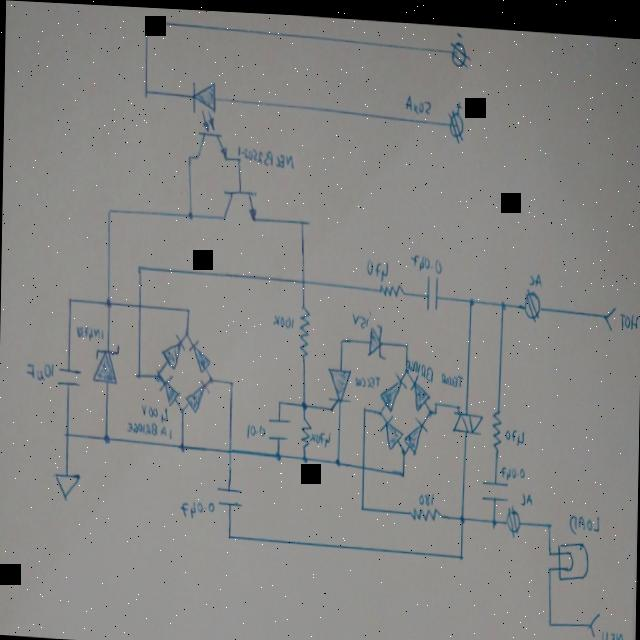capacitor: (58, 362, 82, 391), (268, 411, 292, 440), (216, 480, 242, 506), (424, 270, 442, 306), (482, 473, 508, 497)
crossover: (137, 298, 143, 308), (227, 443, 233, 453), (300, 274, 306, 282), (360, 459, 366, 466)
diode: (92, 341, 120, 383), (380, 367, 407, 406), (404, 411, 428, 448), (379, 410, 404, 445), (161, 331, 185, 366), (185, 377, 210, 410), (188, 337, 212, 370), (367, 318, 388, 355), (410, 371, 430, 406), (160, 372, 182, 403)
ground: (54, 469, 80, 498)
junction: (105, 202, 114, 215), (499, 292, 508, 304), (154, 366, 162, 379), (104, 296, 112, 307), (187, 207, 195, 218), (468, 290, 476, 301), (143, 13, 151, 24), (235, 152, 243, 163), (300, 397, 308, 407), (458, 508, 466, 518), (186, 149, 194, 159), (178, 403, 185, 413), (180, 439, 186, 450), (142, 84, 148, 95), (276, 447, 282, 457), (547, 612, 553, 622), (491, 511, 497, 521), (104, 432, 110, 442), (400, 465, 406, 475), (401, 442, 407, 452), (335, 454, 341, 463), (208, 372, 214, 381), (137, 261, 143, 270), (68, 294, 74, 303), (186, 302, 192, 311), (458, 546, 464, 555), (226, 528, 232, 537), (427, 402, 433, 411), (302, 451, 308, 459), (228, 376, 234, 384), (184, 327, 190, 335), (136, 369, 142, 377), (300, 215, 306, 223), (548, 514, 554, 522), (548, 542, 554, 550), (360, 500, 366, 508), (64, 429, 70, 437), (378, 403, 384, 411), (338, 333, 344, 341), (547, 558, 552, 567), (276, 395, 282, 402), (362, 401, 368, 408), (403, 362, 409, 369), (434, 403, 438, 411), (434, 395, 439, 401), (405, 338, 409, 344)
resistor: (298, 301, 310, 354), (410, 501, 442, 518), (492, 402, 503, 446), (380, 278, 405, 293), (301, 414, 312, 446)
terminal: (448, 35, 468, 62), (449, 107, 465, 131), (604, 299, 616, 323), (590, 606, 600, 630)
text: (237, 142, 294, 165), (126, 418, 173, 437), (180, 497, 216, 517), (410, 248, 442, 269), (570, 506, 600, 528), (26, 360, 54, 382), (406, 355, 434, 376), (404, 89, 432, 109), (366, 254, 388, 277), (142, 402, 168, 421), (76, 324, 105, 340), (500, 459, 525, 475), (356, 369, 380, 385), (309, 426, 331, 443), (600, 623, 624, 638), (246, 420, 266, 437), (620, 305, 640, 322), (441, 367, 463, 382), (505, 423, 525, 439), (273, 311, 294, 325), (352, 308, 368, 325), (418, 486, 434, 501), (528, 266, 542, 282), (521, 485, 533, 500)
thyristor: (327, 363, 353, 410)
transistor: (221, 184, 259, 220)
